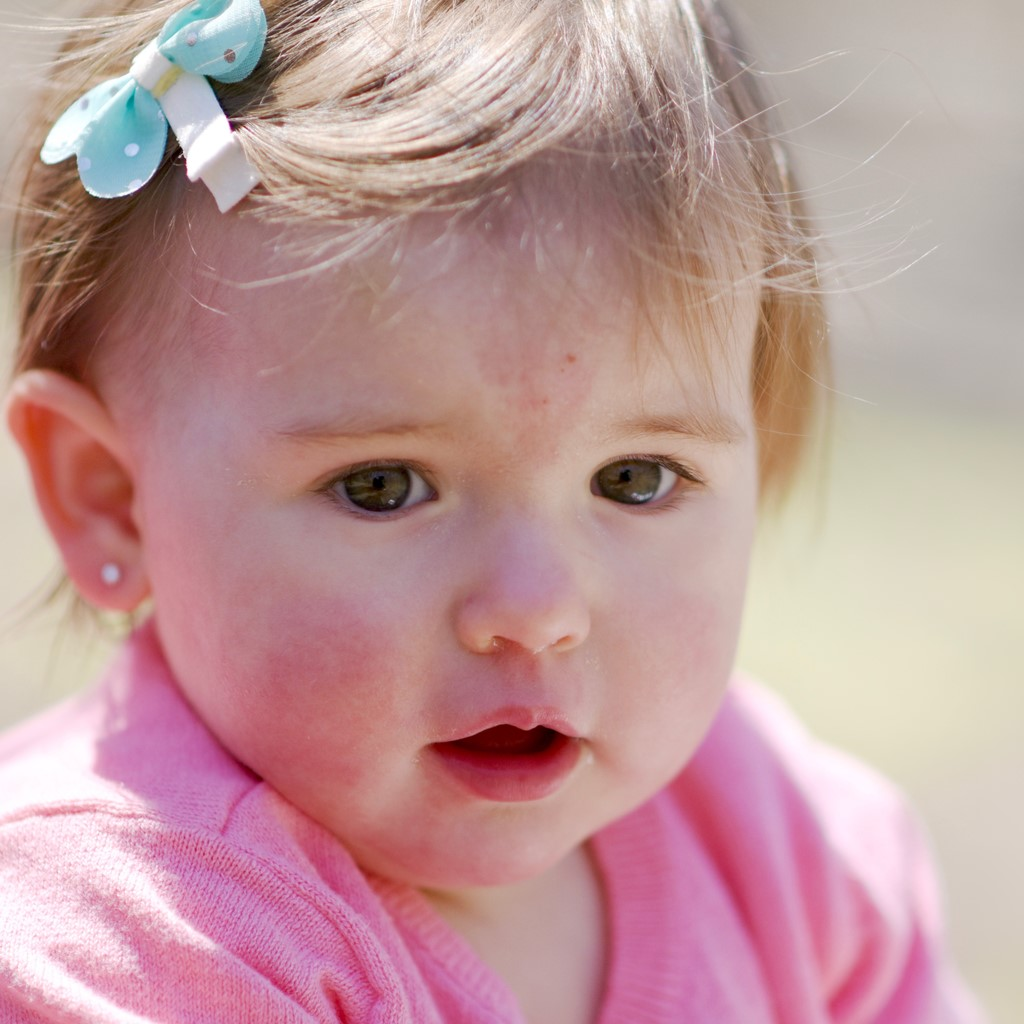sin_mascara: (103, 49, 753, 897)
